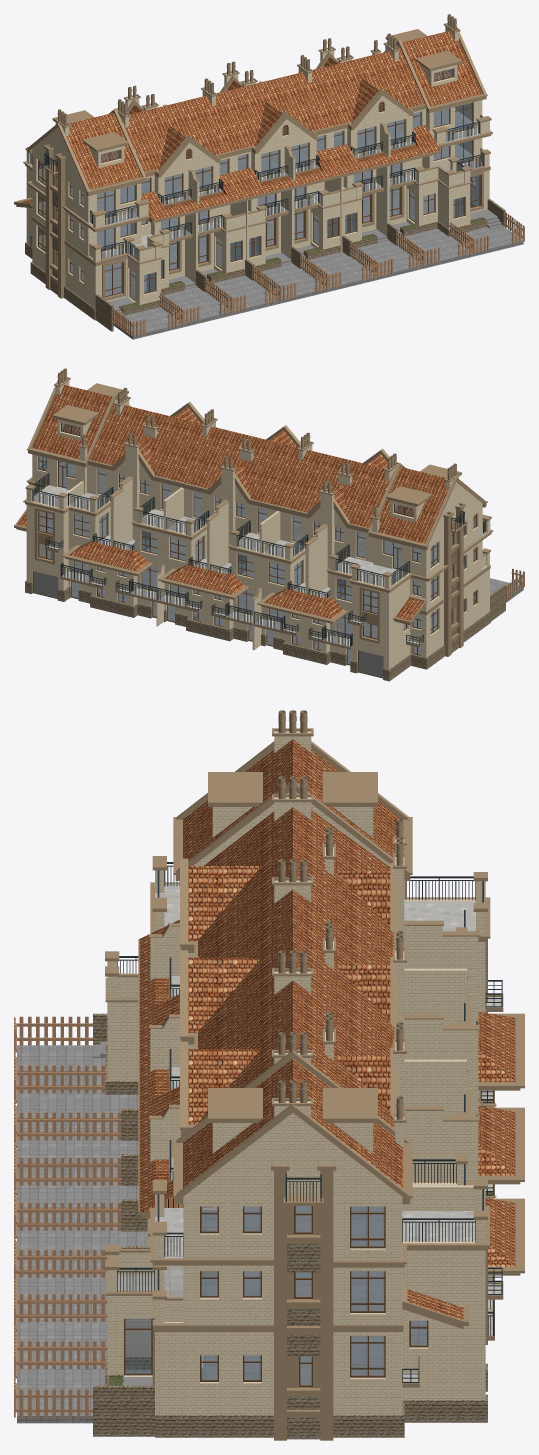
File: House.FBX
3 renders of one model, top to bottom at view 1: azimuth 30°, elevation 25°; view 2: azimuth 150°, elevation 25°; view 3: azimuth 270°, elevation 25°, orthographic. The views are drawn at different scales.
Parts seen in each view (by area): view 1: House07, House12, House08, House11, House14, House13, House00, House06, House09, House10, House01, House05 (+2 smaller); view 2: House07, House12, House08, House11, House13, House06, House10, House01, House09, House02, House05, House00; view 3: House07, House12, House08, House14, House00, House10, House11, House13, House01, House06, House05, House09.
Part boxes in pixels (x1,y1,x2,y2): House07: (26, 24, 489, 308); House12: (21, 31, 482, 220); House08: (14, 14, 492, 300); House11: (39, 69, 479, 299); House14: (113, 226, 523, 339); House13: (41, 108, 482, 299); House00: (112, 212, 524, 336); House06: (30, 115, 483, 259); House09: (38, 68, 480, 300); House10: (25, 107, 487, 320); House01: (40, 128, 480, 258); House05: (95, 199, 505, 331); House07: (26, 379, 490, 669); House12: (17, 385, 448, 620); House08: (14, 368, 493, 656); House11: (39, 423, 475, 663); House13: (39, 462, 464, 664); House06: (32, 473, 485, 647); House10: (25, 461, 490, 681); House01: (34, 485, 486, 646); House09: (32, 422, 476, 678); House02: (33, 571, 383, 677); House05: (490, 585, 505, 621); House00: (506, 568, 524, 600); House07: (107, 731, 494, 1414); House12: (139, 739, 515, 1320); House08: (105, 710, 524, 1440); House14: (17, 1045, 151, 1423); House00: (14, 1016, 121, 1418); House10: (105, 1045, 487, 1439); House11: (125, 1206, 426, 1385); House13: (117, 1206, 426, 1385); House01: (155, 884, 500, 1381); House06: (117, 862, 502, 1382); House05: (93, 1013, 154, 1436); House09: (124, 1206, 428, 1387).
Size of the model in its own units: 28.93 by 12.14 by 15.94.
